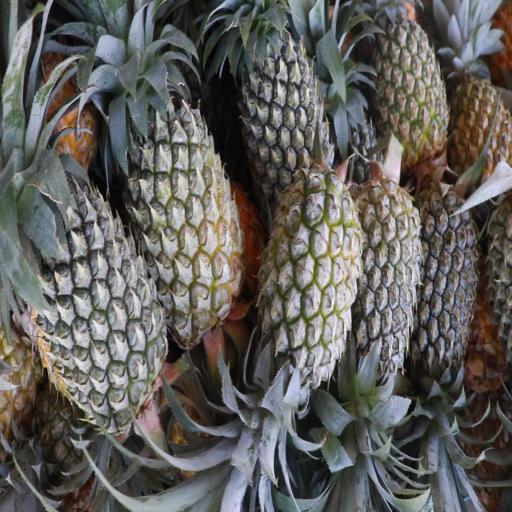------------------------------: (133, 96, 236, 325), (266, 166, 360, 376), (372, 14, 448, 164), (447, 57, 512, 190)
